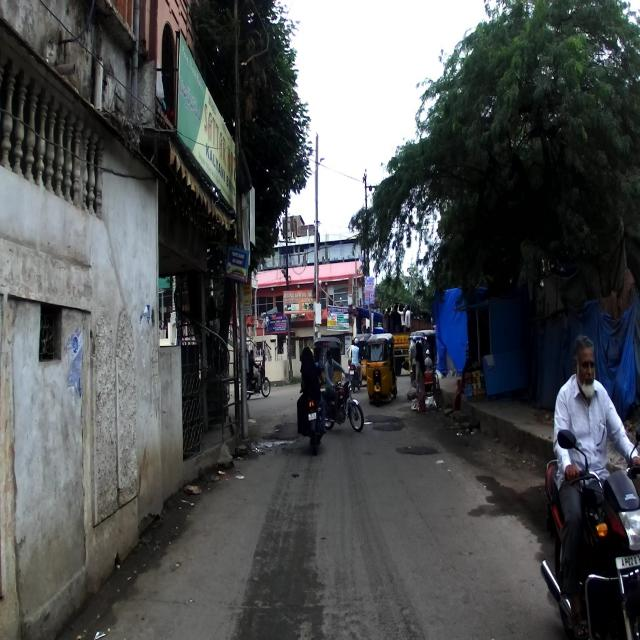motorcycle: (540, 430, 640, 640), (319, 374, 364, 434), (299, 378, 327, 456)
